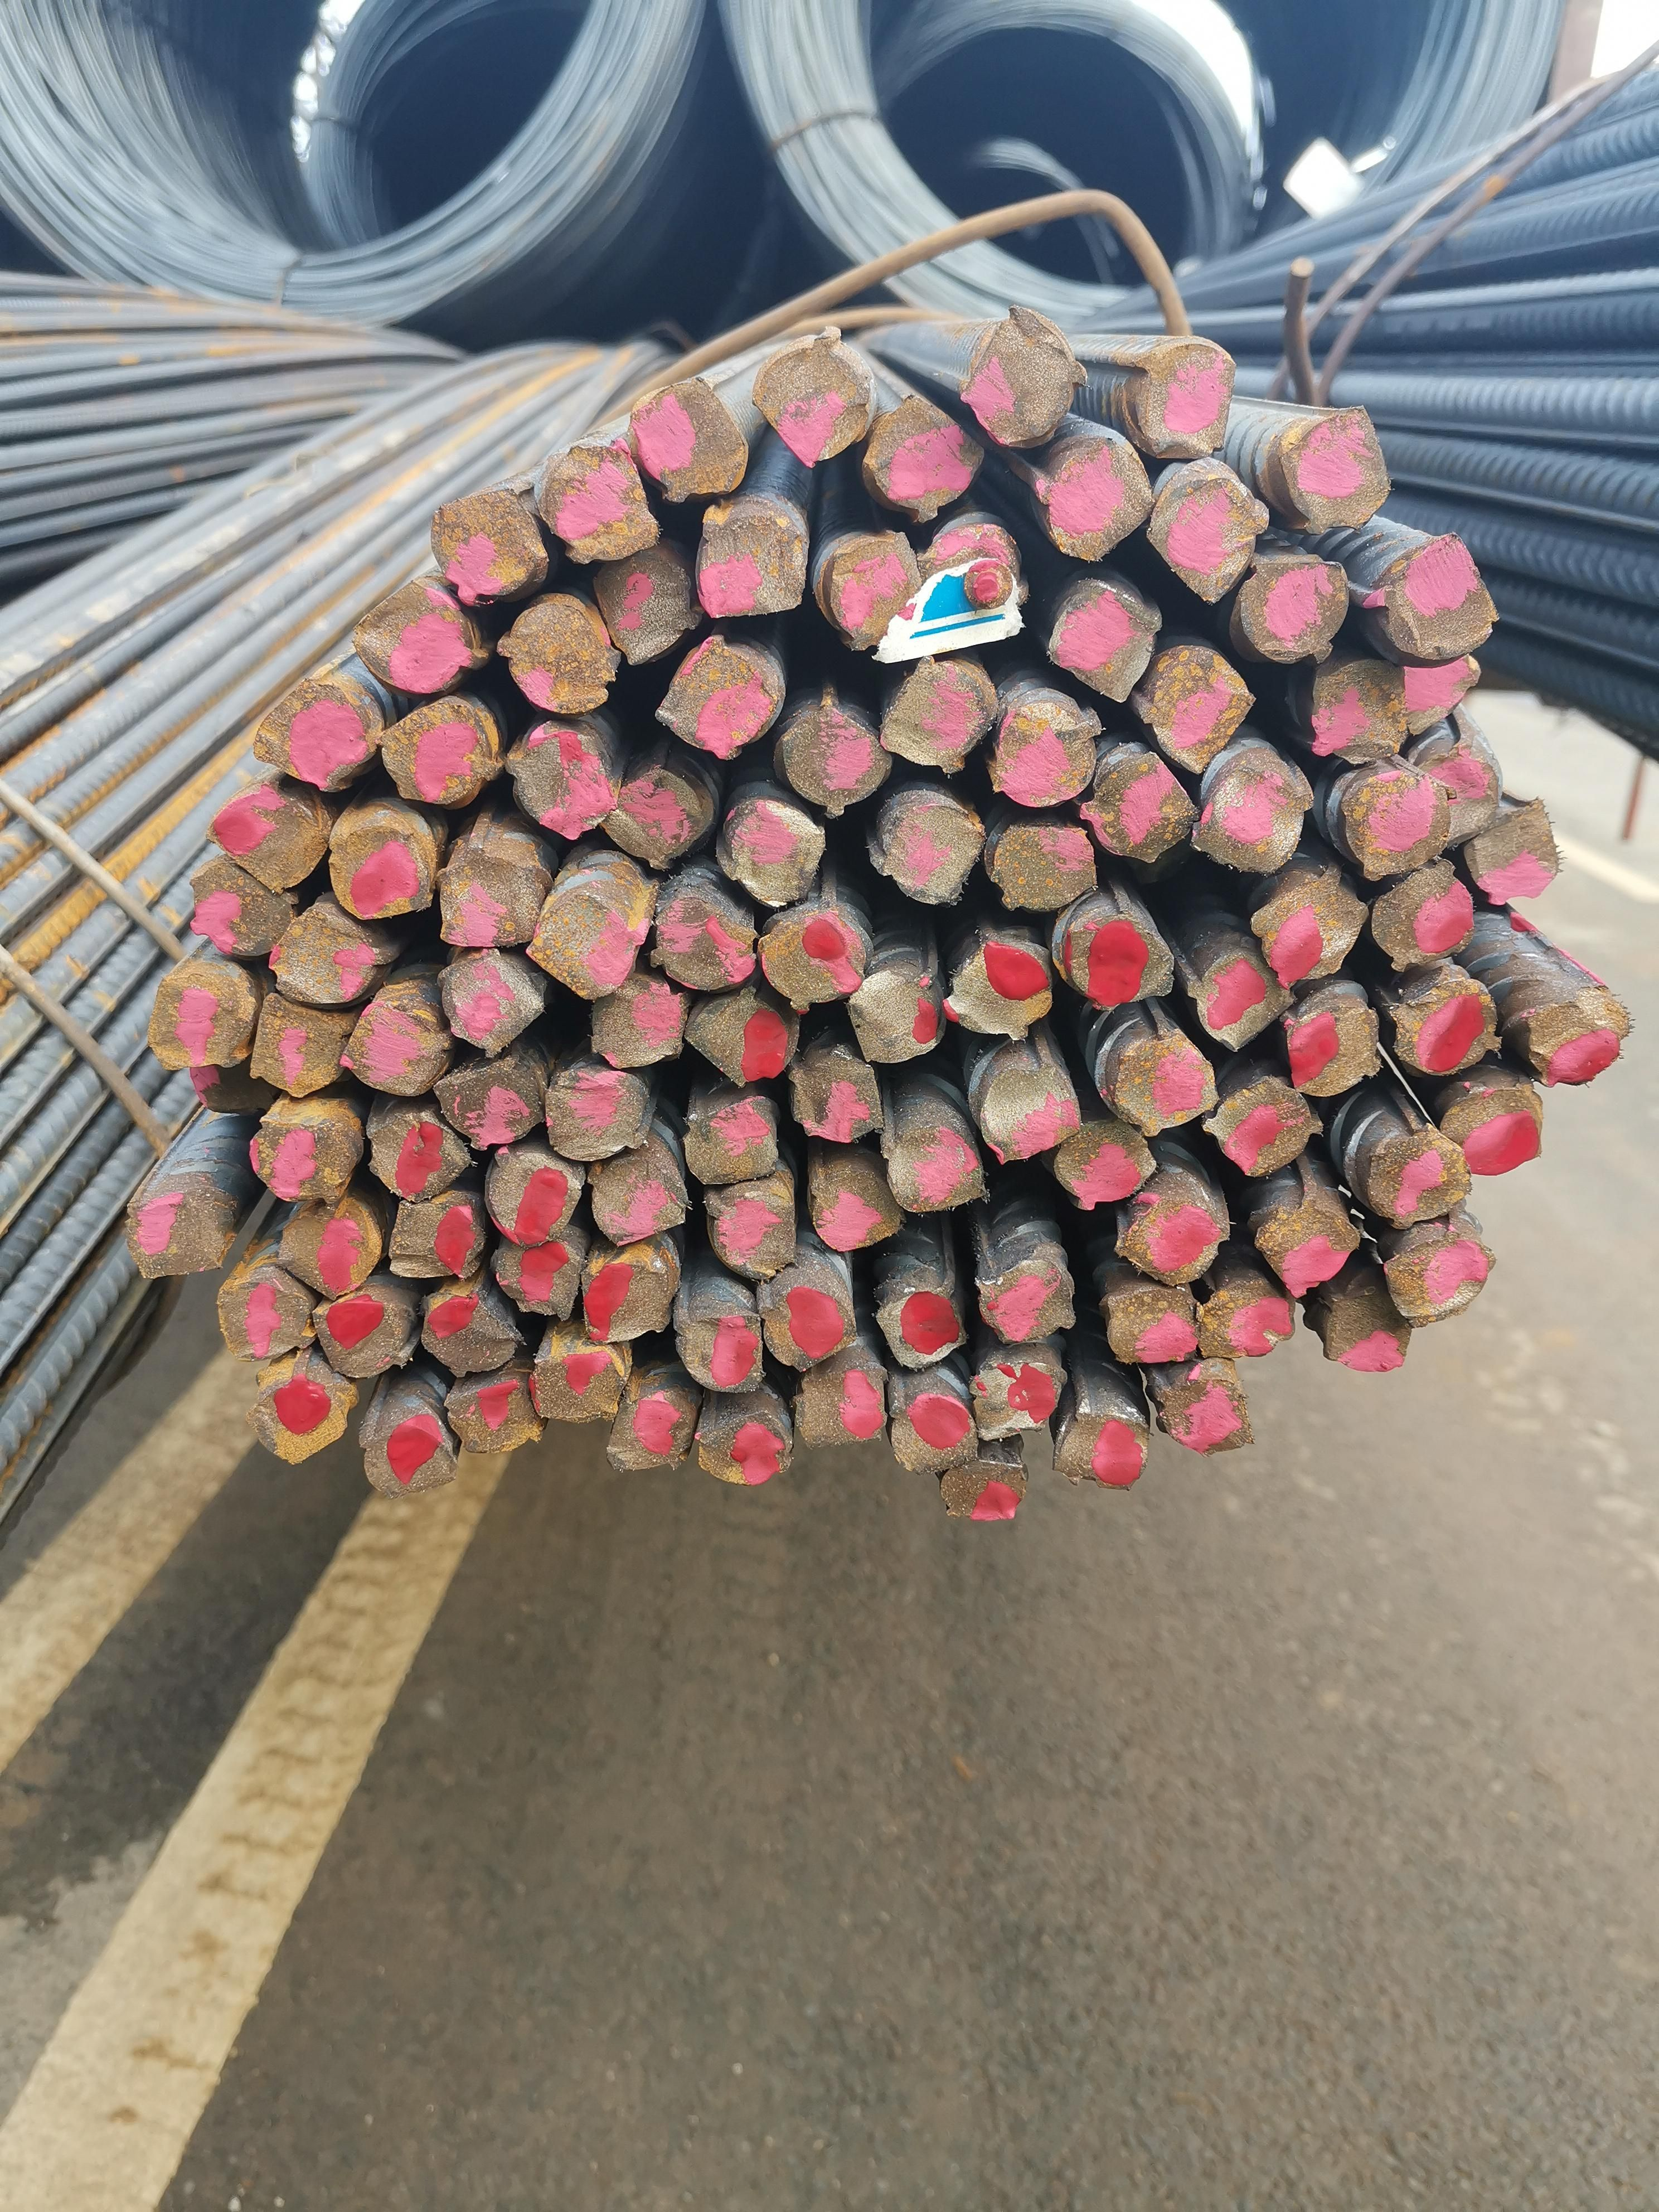rebar: (961, 305, 1088, 451), (651, 632, 795, 760), (748, 329, 875, 467), (1191, 747, 1315, 879), (1381, 529, 1502, 666), (533, 439, 663, 565), (1137, 642, 1262, 774), (862, 385, 983, 521), (1147, 473, 1267, 609), (246, 678, 381, 797), (632, 372, 750, 506), (1032, 433, 1151, 562), (1278, 400, 1393, 535), (497, 599, 624, 720), (347, 578, 480, 693), (1229, 552, 1355, 670), (1075, 746, 1199, 867), (1249, 866, 1368, 991), (1198, 1069, 1329, 1181), (1041, 581, 1161, 704), (779, 693, 892, 819), (262, 901, 388, 1011), (430, 486, 549, 603), (880, 660, 1002, 773), (1365, 858, 1478, 980), (819, 529, 927, 656), (507, 727, 624, 844), (140, 954, 257, 1072), (693, 503, 808, 622), (529, 884, 649, 998), (593, 541, 700, 666), (987, 698, 1103, 813), (721, 793, 832, 913), (760, 900, 874, 1016), (432, 948, 546, 1064), (1386, 966, 1507, 1075), (209, 787, 324, 900), (1136, 337, 1241, 460), (1055, 910, 1178, 1016), (382, 696, 498, 805), (1519, 987, 1638, 1093), (944, 937, 1058, 1046), (1342, 770, 1452, 883), (1105, 1032, 1220, 1138), (245, 989, 352, 1106), (582, 966, 692, 1077), (323, 821, 438, 927), (435, 848, 552, 953), (113, 1181, 230, 1285), (1309, 649, 1412, 769), (1111, 1181, 1229, 1283), (975, 1059, 1083, 1168), (681, 989, 806, 1085), (1258, 1189, 1364, 1301), (186, 853, 302, 957), (878, 800, 987, 908), (1359, 1126, 1474, 1227), (433, 1056, 552, 1153), (1378, 1231, 1497, 1329), (648, 887, 757, 995), (1467, 798, 1570, 909), (926, 513, 1034, 618), (1052, 1113, 1160, 1217), (362, 1103, 474, 1203), (244, 1111, 362, 1206), (974, 1244, 1080, 1348), (273, 1199, 381, 1299), (884, 1119, 993, 1219), (791, 1338, 891, 1449), (988, 819, 1101, 916), (210, 1267, 319, 1368), (542, 1063, 649, 1164), (1188, 945, 1285, 1059), (600, 768, 708, 869), (484, 1144, 586, 1249), (246, 1365, 353, 1465), (416, 1283, 523, 1383), (1318, 1274, 1422, 1375), (343, 988, 441, 1094), (846, 966, 942, 1074), (1442, 1083, 1548, 1180), (785, 1046, 887, 1144), (585, 1154, 690, 1249), (1050, 1399, 1155, 1493), (358, 1414, 455, 1513), (703, 1180, 799, 1281), (873, 1272, 969, 1373), (760, 1281, 861, 1374), (1288, 996, 1381, 1098), (1419, 735, 1504, 845), (1197, 1272, 1297, 1364), (969, 1354, 1070, 1444), (881, 1389, 983, 1479), (1156, 1370, 1257, 1461), (577, 1256, 676, 1346), (307, 1294, 410, 1382), (682, 1094, 779, 1186), (1101, 1280, 1199, 1369), (529, 1342, 629, 1427), (691, 1408, 795, 1490), (491, 1233, 584, 1324), (1396, 644, 1483, 740), (678, 1308, 768, 1400), (804, 1170, 900, 1255), (386, 1197, 482, 1279), (441, 1377, 541, 1457), (603, 1393, 688, 1482), (936, 1454, 1034, 1527)
